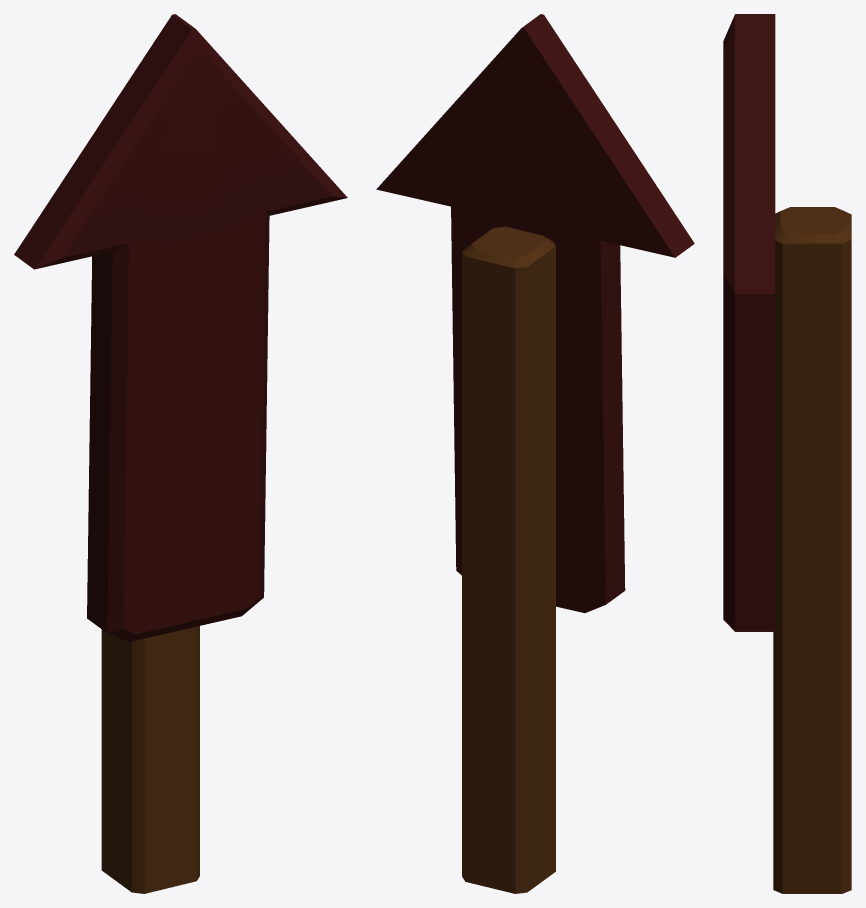
Rendered from Arrow_Up.fbx.
The picture shows the model from 3 angles, left to right: view 1: azimuth 30°, elevation 25°; view 2: azimuth 150°, elevation 25°; view 3: azimuth 270°, elevation 25°; orthographic projection. The views are drawn at different scales.
Visible parts, largest first — view 1: Arrow_Up; view 2: Arrow_Up; view 3: Arrow_Up.
Part boxes in pixels (left/top/right/bottom): Arrow_Up: left=14, top=14, right=347, bottom=893; Arrow_Up: left=376, top=14, right=694, bottom=893; Arrow_Up: left=723, top=14, right=851, bottom=893.
Bounding box in the file's own units: 102 × 270 × 36.32.
